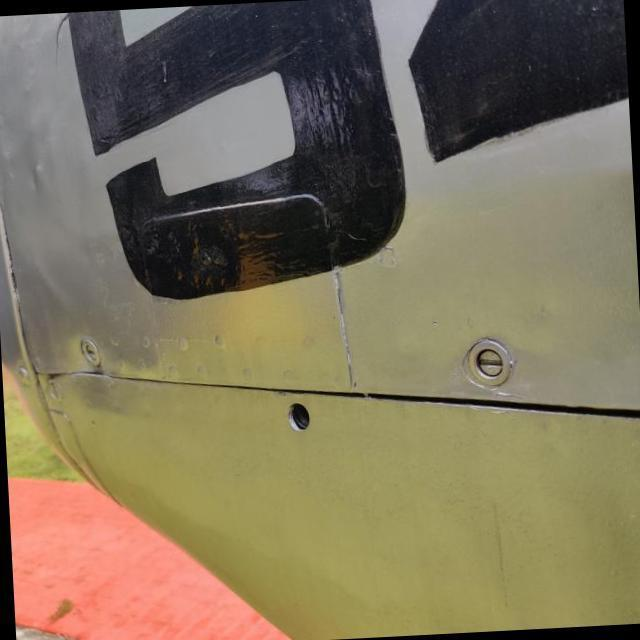Fastener Damage: (259, 372, 340, 458)
